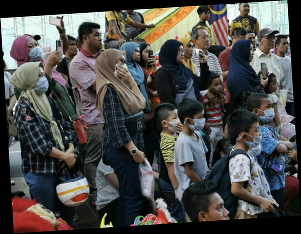mask_weared_incorrect: (245, 126, 263, 149)
with_mask: (34, 70, 49, 96), (259, 102, 276, 123), (27, 40, 43, 60), (192, 112, 206, 132), (169, 112, 182, 132), (118, 56, 127, 78)
without_mask: (206, 200, 231, 221), (89, 30, 103, 51), (263, 34, 278, 50), (210, 79, 224, 94), (198, 33, 211, 49), (185, 42, 195, 59), (176, 46, 186, 63), (67, 41, 78, 56), (278, 40, 289, 54), (269, 79, 280, 93), (142, 47, 152, 60), (133, 48, 142, 62), (247, 35, 257, 47), (248, 45, 255, 62), (202, 10, 211, 21), (200, 12, 211, 21)
